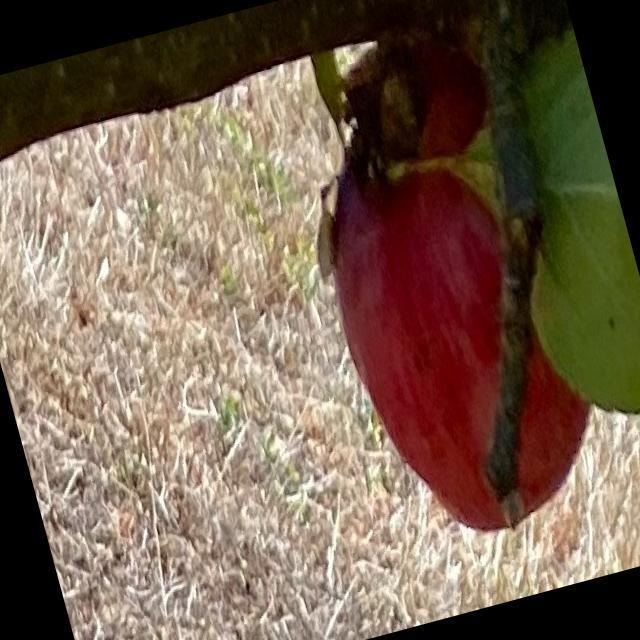Rotten Apple: (282, 41, 618, 553)
